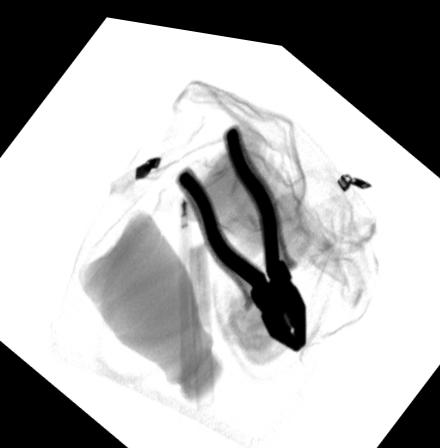Pliers: (174, 114, 307, 344)
